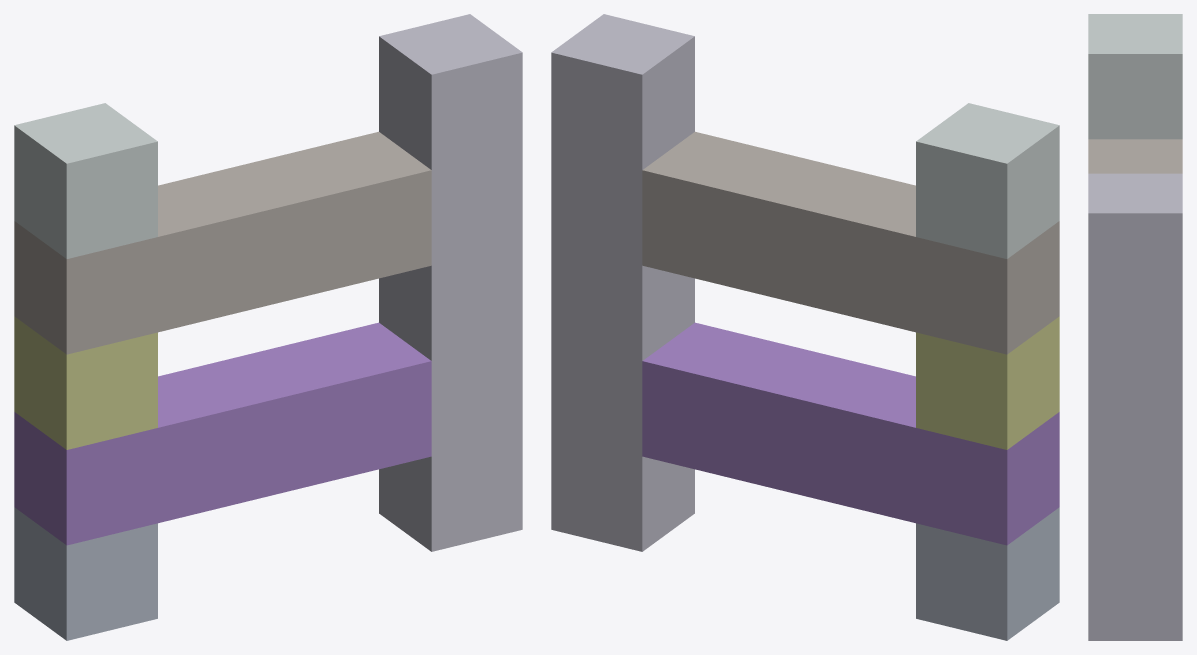
3 renders of one model, left to right at view 1: azimuth 30°, elevation 25°; view 2: azimuth 150°, elevation 25°; view 3: azimuth 270°, elevation 25°, orthographic. The views are drawn at different scales.
Size of the model in its own units: 16 by 16 by 3.2.
